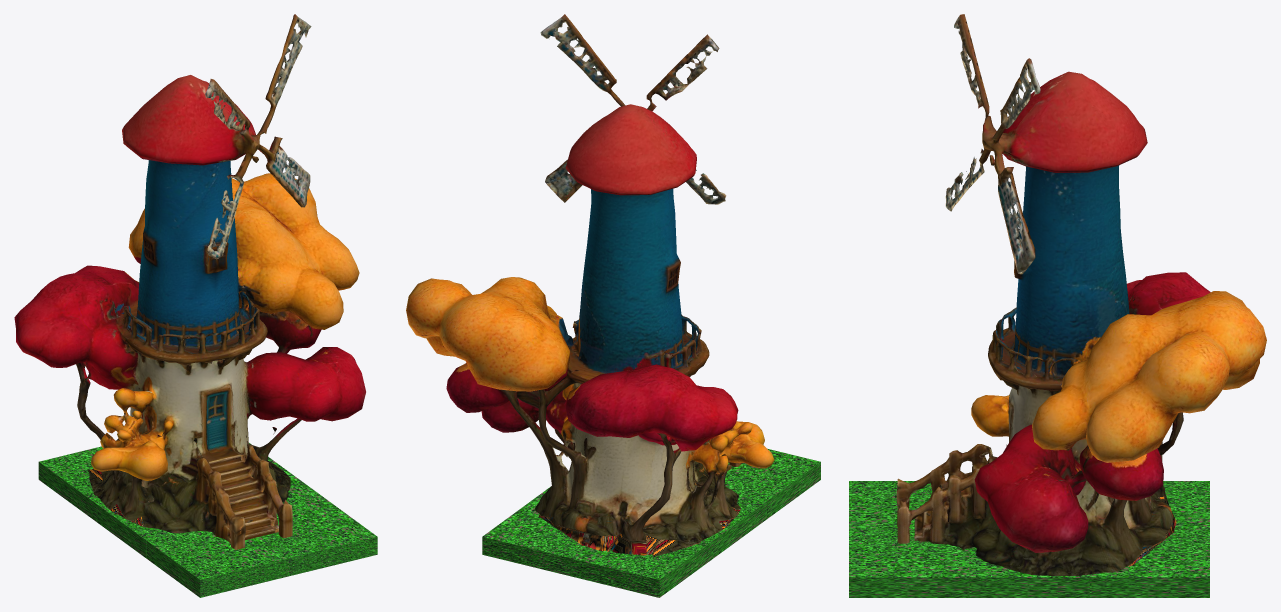
File: windmill.glb
The picture shows the model from 3 angles, left to right: view 1: azimuth 30°, elevation 25°; view 2: azimuth 150°, elevation 25°; view 3: azimuth 270°, elevation 25°; orthographic projection. The views are drawn at different scales.
Visible parts, largest first — view 1: windmill; view 2: windmill; view 3: windmill.
Part boxes in pixels (box(x1,y1,x2,y2)): windmill: box(14, 14, 377, 597); windmill: box(406, 14, 820, 597); windmill: box(849, 14, 1266, 597).
Bounding box in the file's own units: 0.9981 × 1.43 × 1.01.
Materials: 7 (7 with a texture image).
